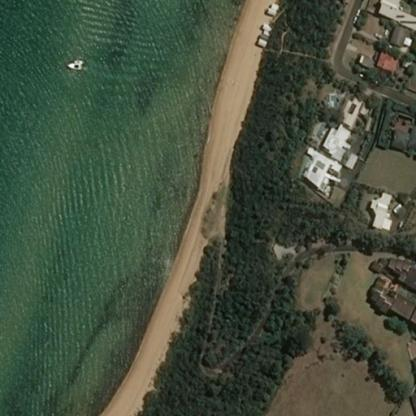ship: (63, 62, 79, 69)
